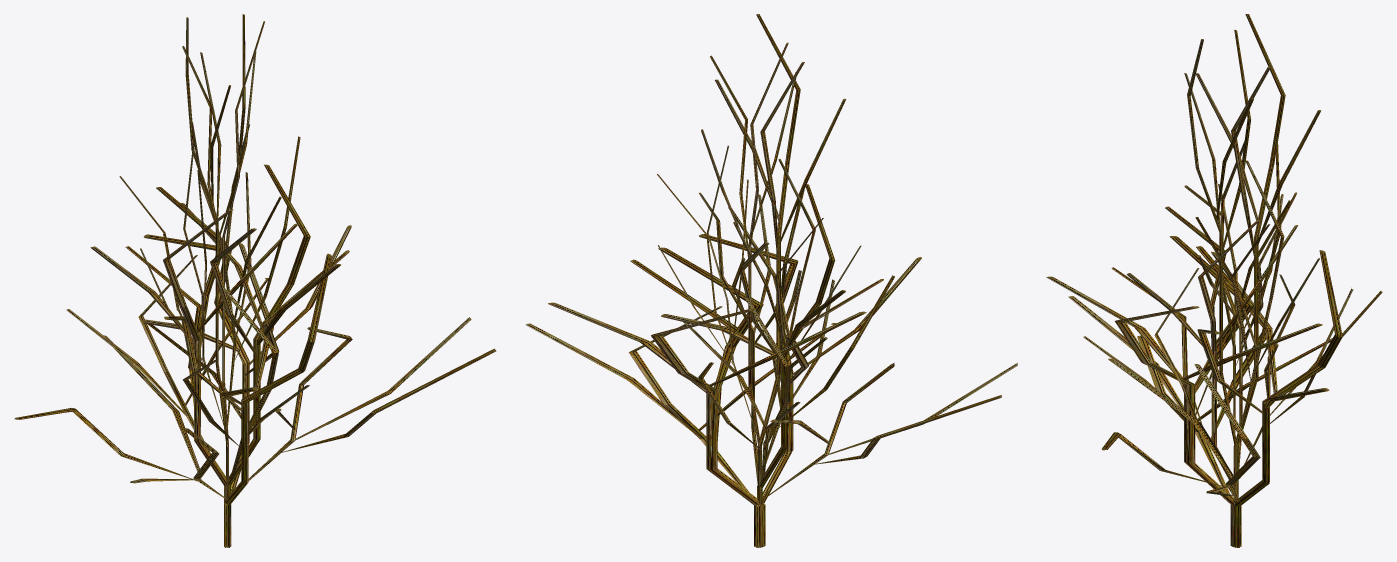
File: Stickbush_var.fbx
3 views of the same model, side by side, from view 1: azimuth 30°, elevation 25°; view 2: azimuth 150°, elevation 25°; view 3: azimuth 270°, elevation 25° (orthographic). The views are drawn at different scales.
Parts seen in each view (by area): view 1: Cylinder.001; view 2: Cylinder.001; view 3: Cylinder.001.
Boxes of the visible parts, x1,y1,x2,y2 form: Cylinder.001: (14,14,496,547); Cylinder.001: (525,14,1017,547); Cylinder.001: (1046,14,1382,547).
Bounding box in the file's own units: 28.73 × 30.88 × 18.25.
1 material, 1 textured.
